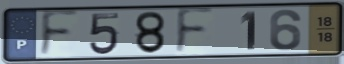1: (239, 11, 257, 52)
5: (87, 11, 123, 55)
6: (267, 7, 303, 52)
8: (133, 10, 167, 55)
F: (172, 6, 217, 58), (37, 9, 81, 61)
